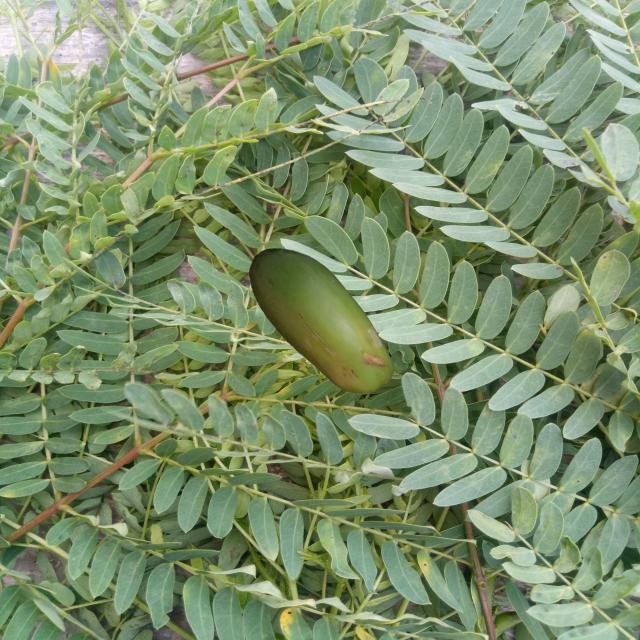Pepaya unrippen: (237, 242, 400, 395)
